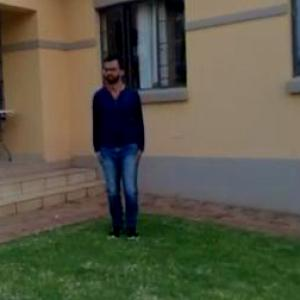follow: (85, 46, 148, 252)
